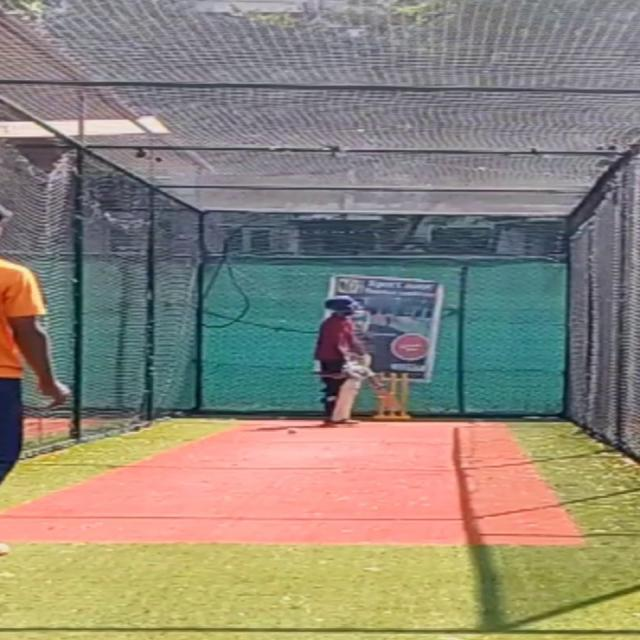ball: (280, 425, 298, 436)
stump: (374, 371, 412, 421)
